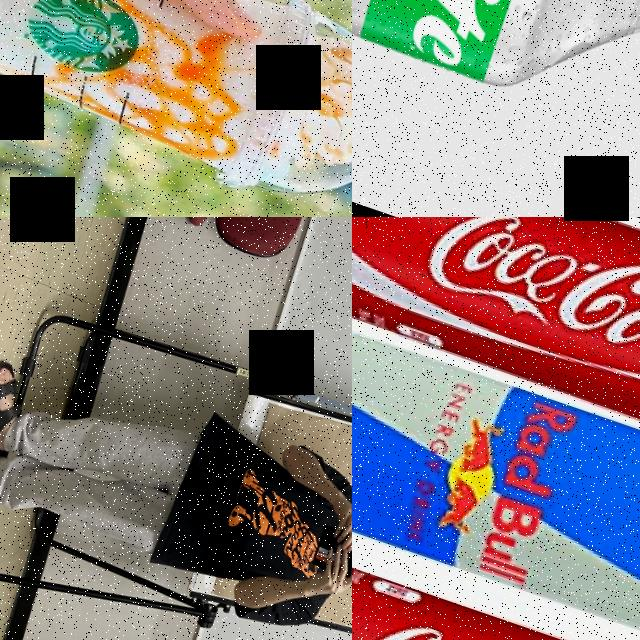bottle: (352, 0, 640, 151)
can: (352, 300, 640, 640), (352, 217, 640, 467), (352, 496, 640, 640)
cup: (0, 0, 352, 217)
